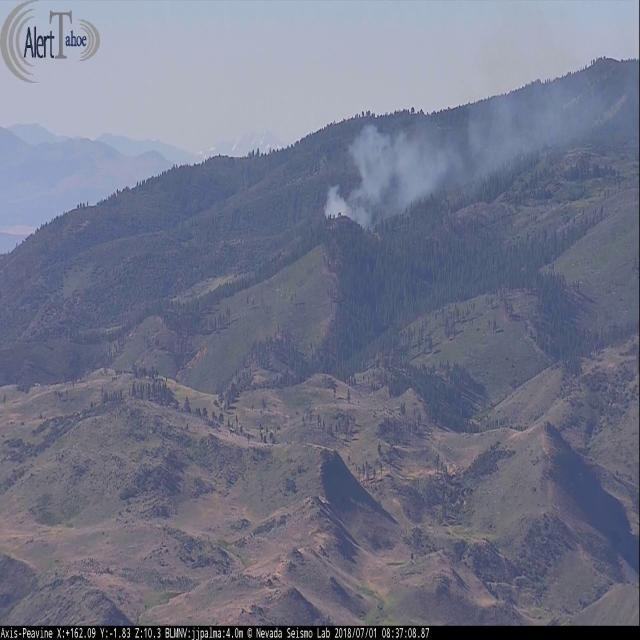smoke: (321, 30, 640, 239)
